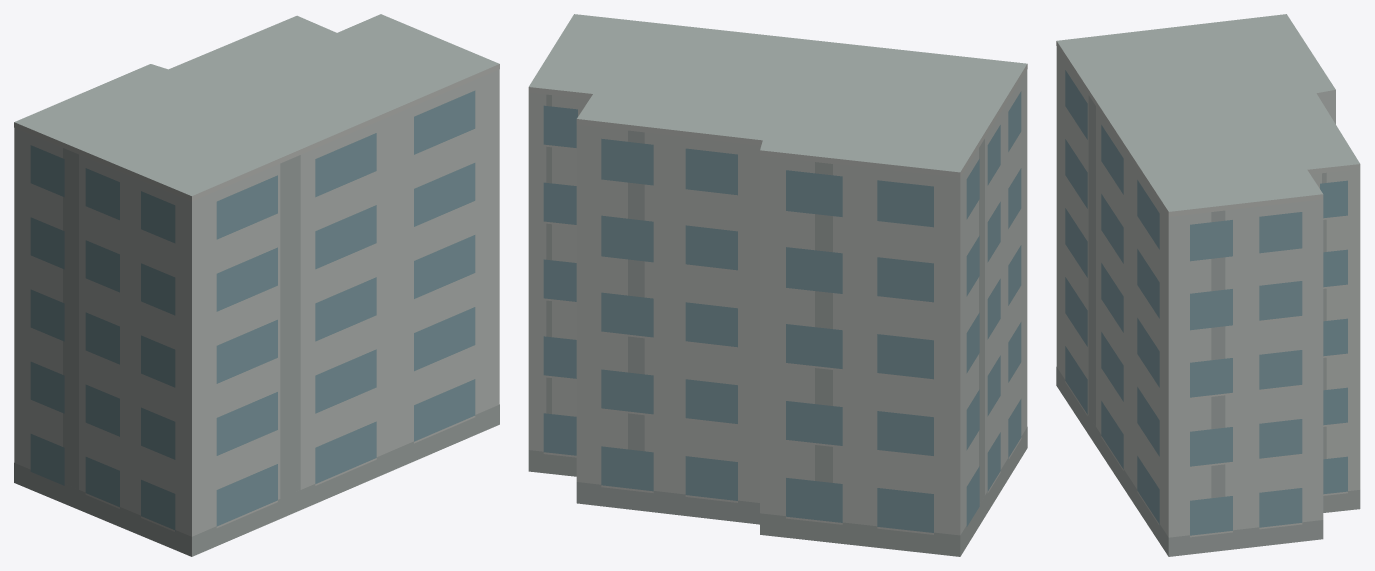
File: survey-upis-32782893.glb
3 views of the same model, side by side, from view 1: azimuth 30°, elevation 25°; view 2: azimuth 150°, elevation 25°; view 3: azimuth 270°, elevation 25° (orthographic). The views are drawn at different scales.
Parts seen in each view (by area): view 1: survey-upis-32782893.tmp; view 2: survey-upis-32782893.tmp; view 3: survey-upis-32782893.tmp.
Boxes of the visible parts, x1,y1,x2,y2 form: survey-upis-32782893.tmp: [14, 14, 499, 556]; survey-upis-32782893.tmp: [528, 14, 1027, 556]; survey-upis-32782893.tmp: [1056, 14, 1360, 556].
Bounding box in the file's own units: 20.27 × 16.47 × 13.16.
